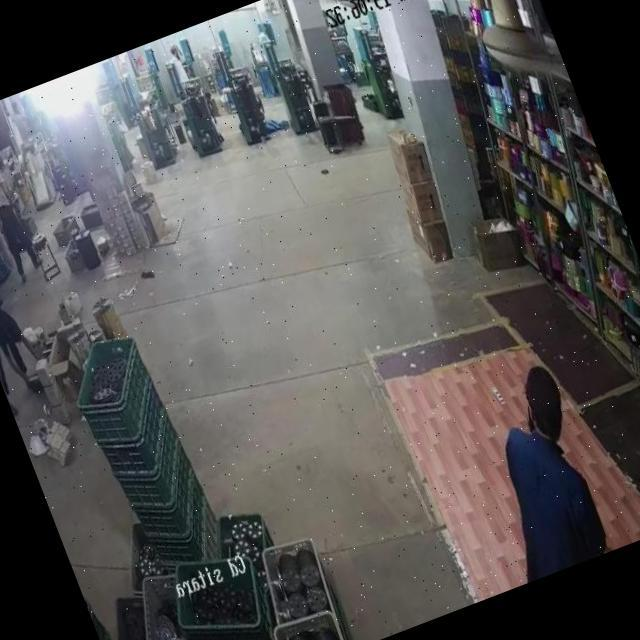person: (452, 361, 622, 585), (0, 292, 49, 417), (0, 156, 47, 285), (164, 42, 194, 94)
